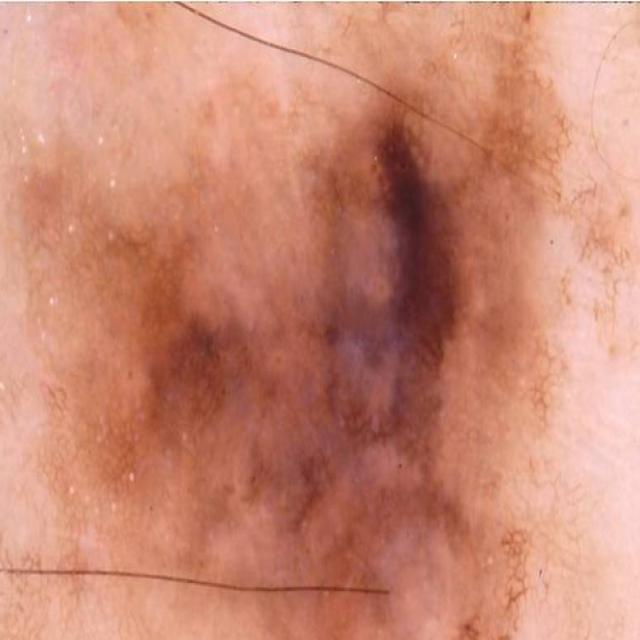Melanoma: (87, 90, 615, 640)
